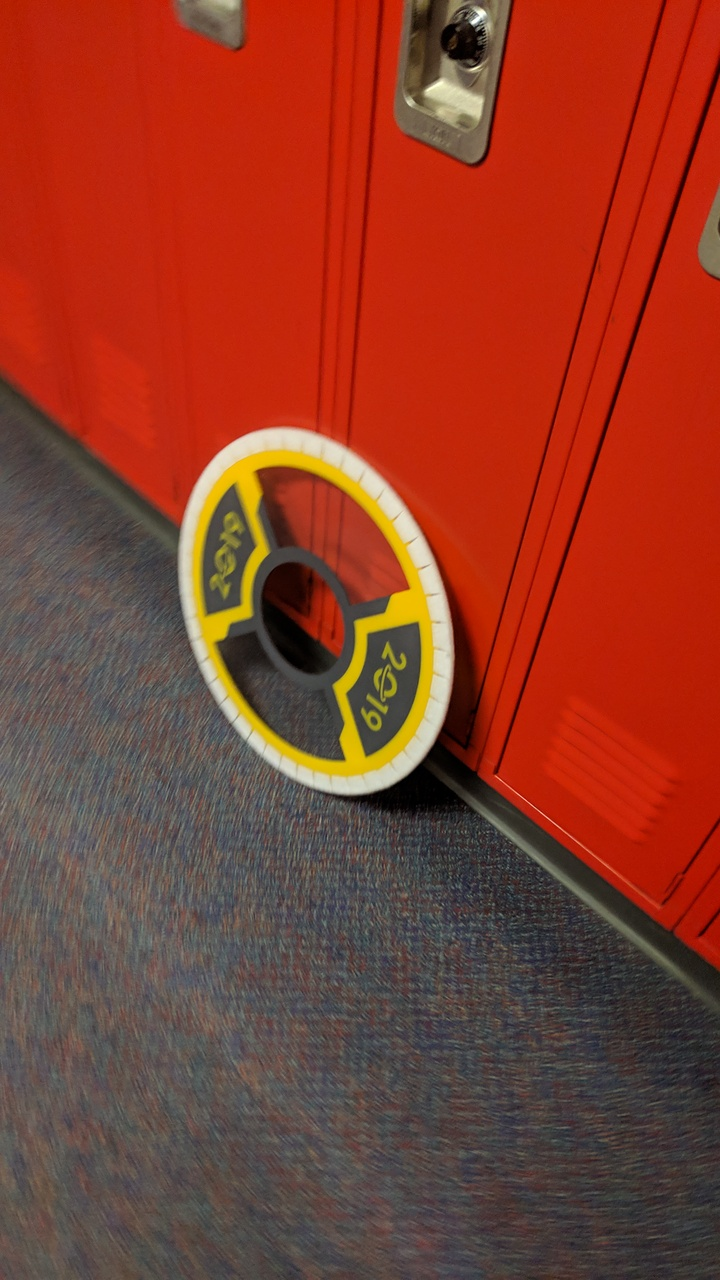hatch_panel: (175, 418, 480, 816)
